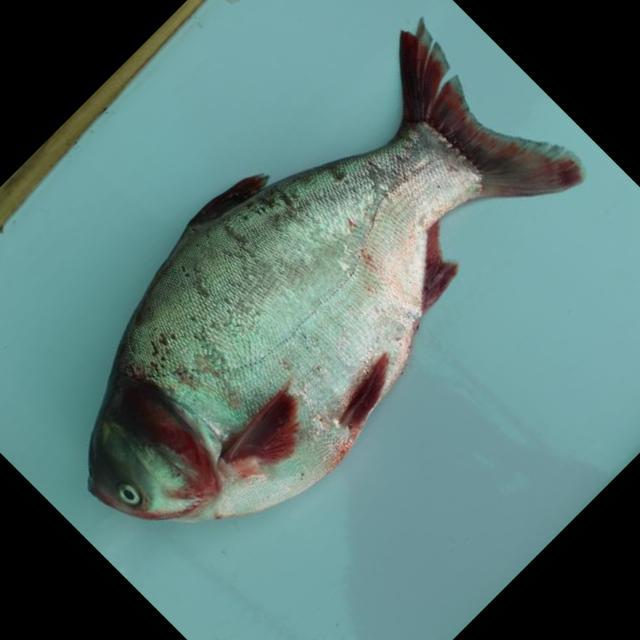SilverCarp: (103, 21, 578, 552)
